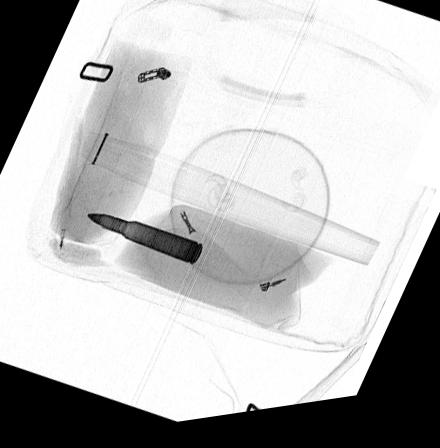Bullet: (84, 215, 201, 272)
